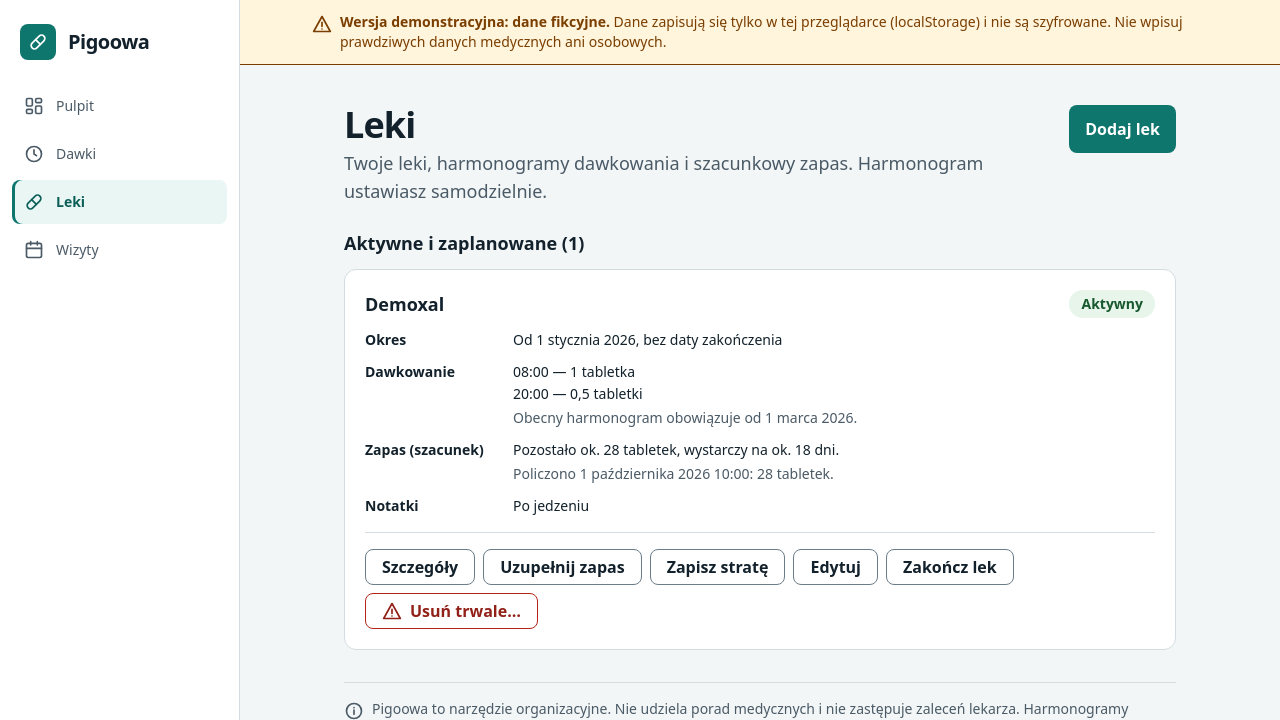
Test: medication details: navigation and states › is reached from the list, with a name that says which medication it is
The width and height of the screenshot is (1280, 720).
Click the link named "Szczegóły leku Demoxal".
click(420, 567)  # box x1=365 y1=549 x2=475 y2=585
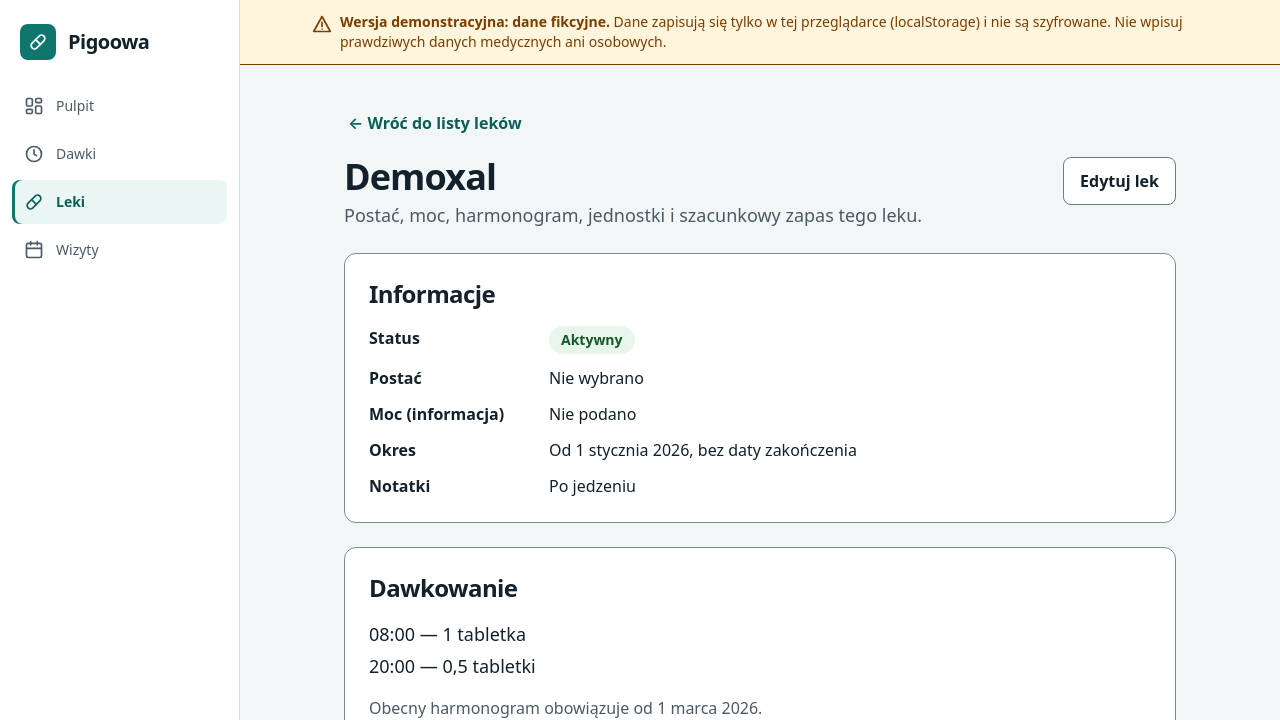
Expected: the heading "Demoxal" is shown, x1=344 y1=152 x2=496 y2=201
